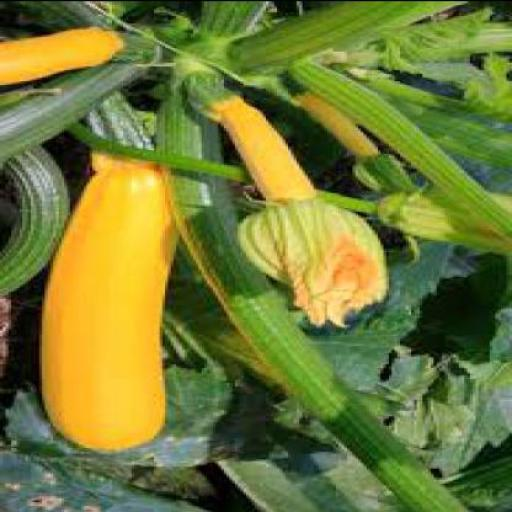biodegradable: (190, 71, 392, 329), (53, 95, 193, 454), (302, 89, 420, 198), (3, 147, 76, 300), (3, 28, 134, 89)
